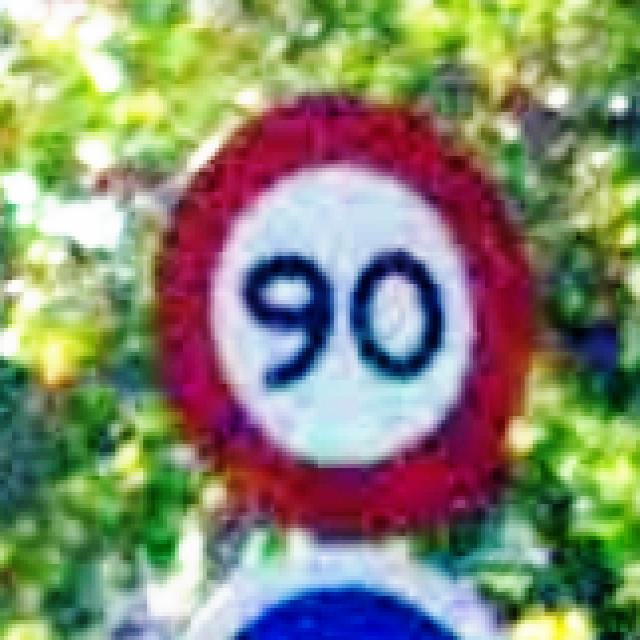max90: (139, 84, 537, 536)
